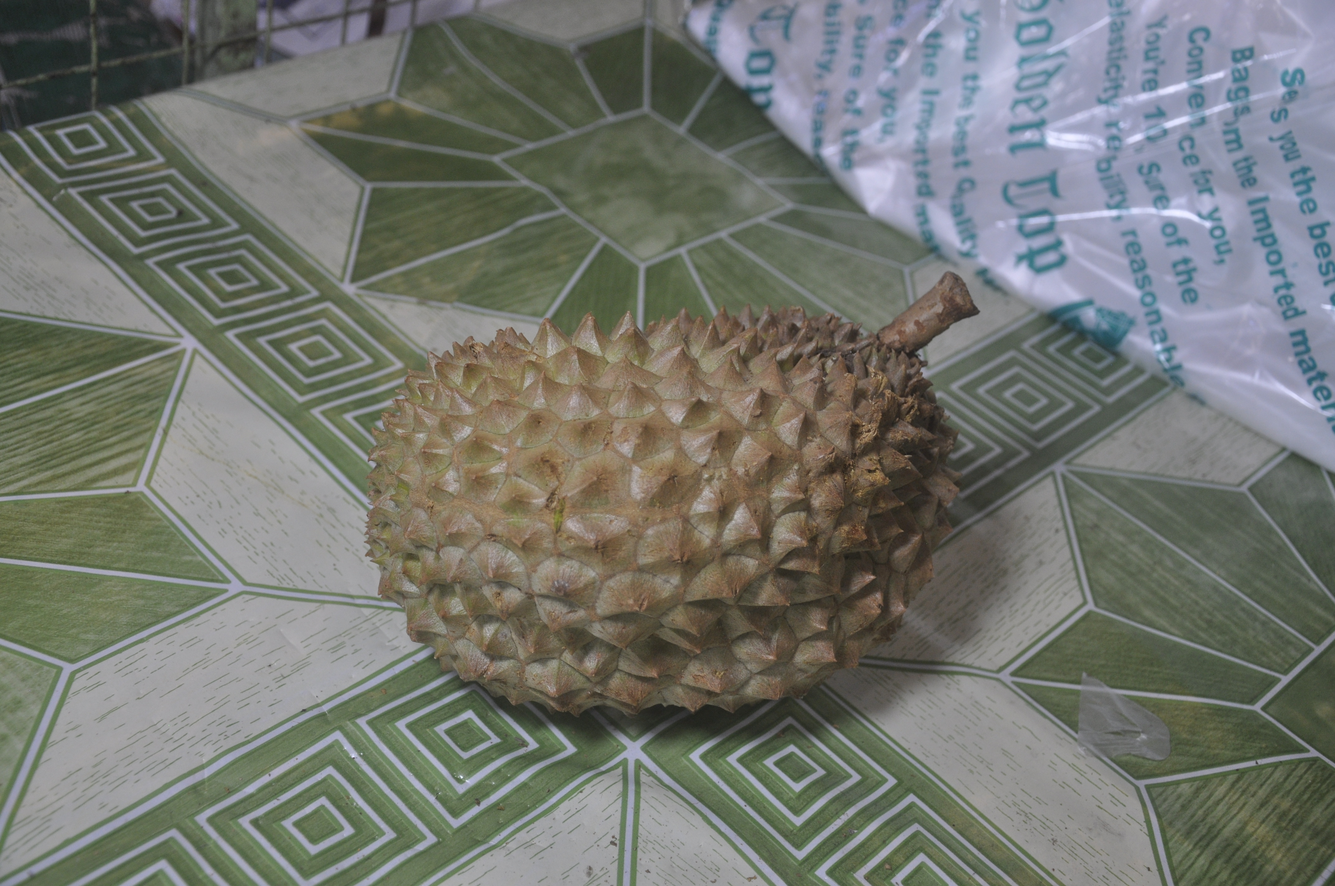mature: (367, 272, 978, 713)
